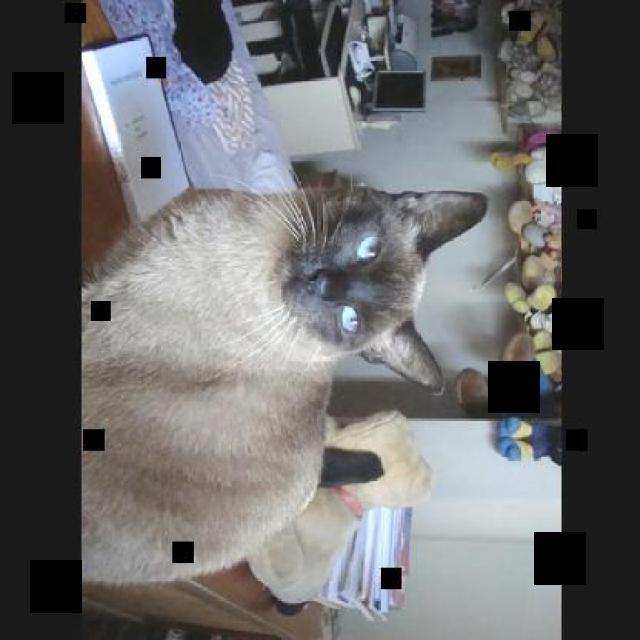unauthorized: (80, 169, 488, 588)
